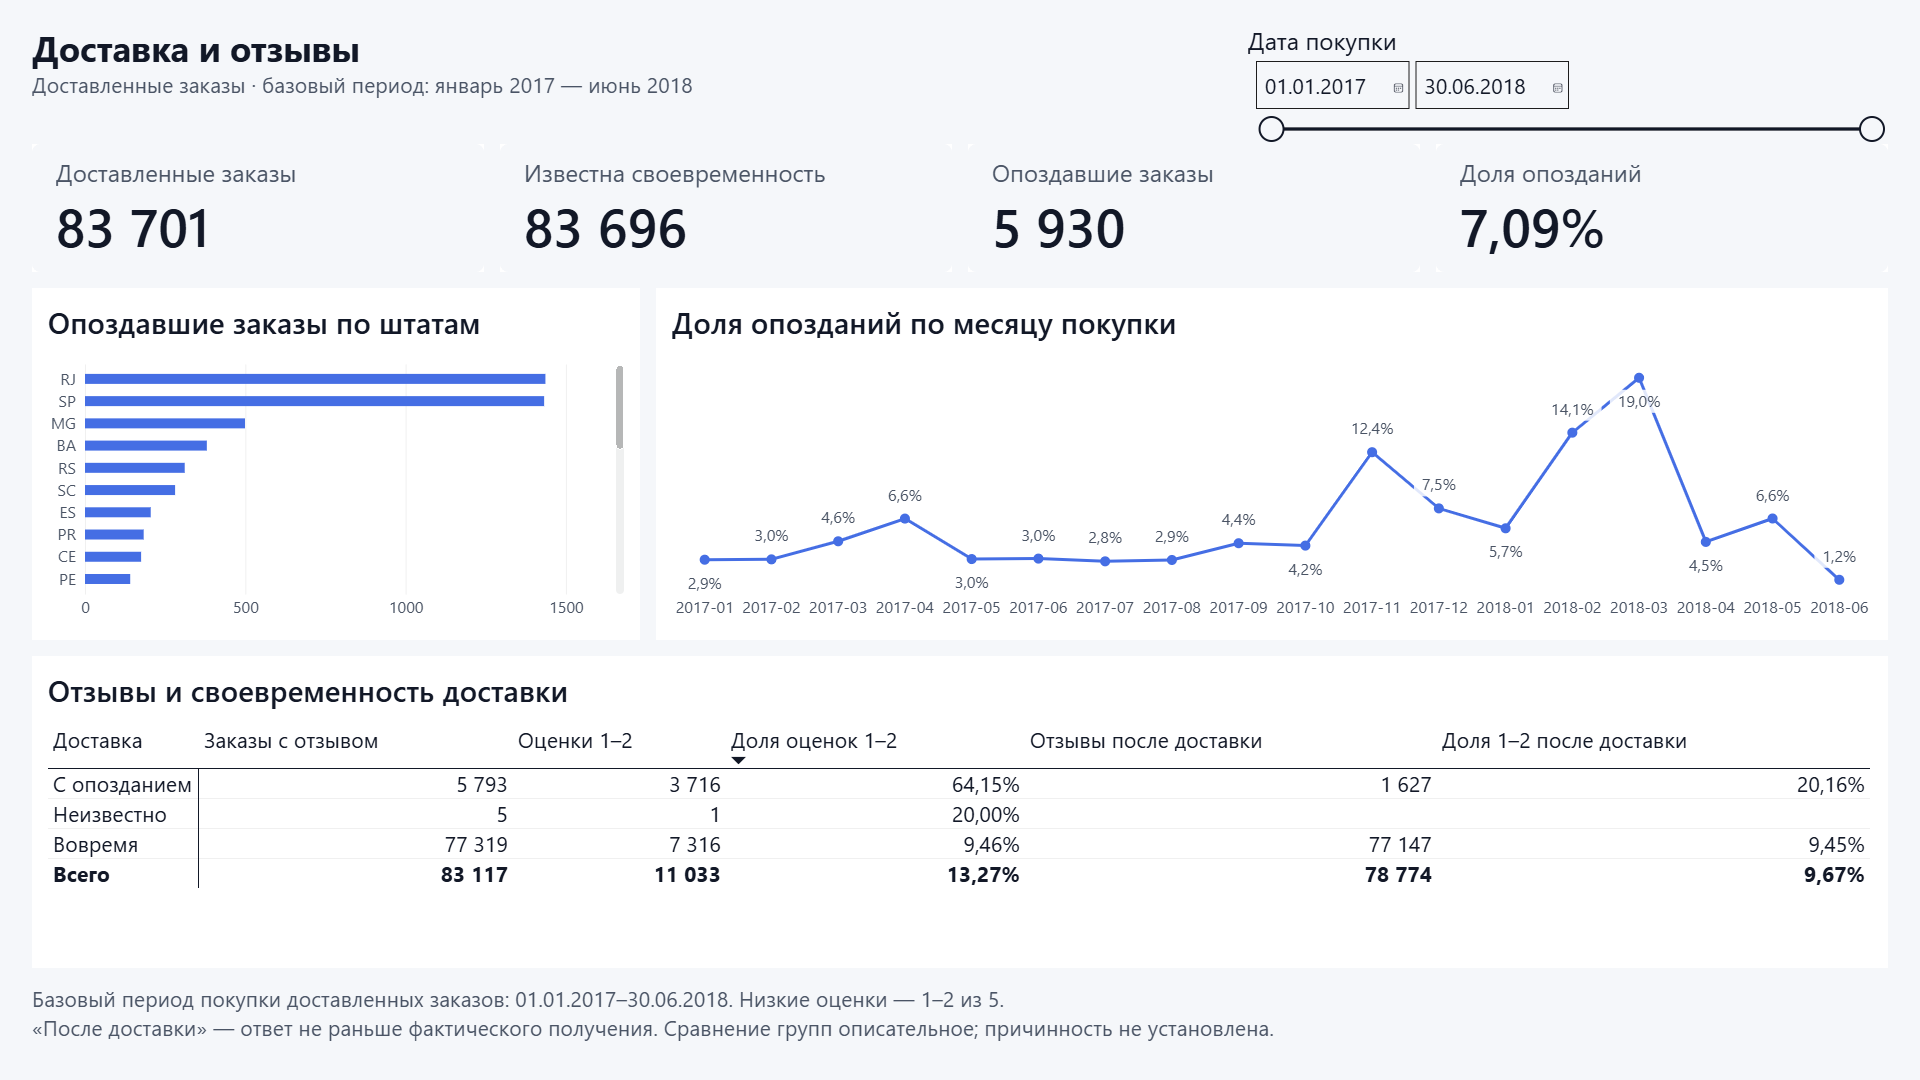

The page's visual inventory and layout, read from the dashboard file:
{"tool":"powerbi","page":{"name":"Доставка и отзывы","canvas":[1920,1080],"ordinal":2},"visuals":[{"type":"textbox","box":[32,24,1136,104],"z":0},{"type":"slicer","title":"Дата покупки","fields":{"Values":["service_calendar.date"]},"box":[1248,24,640,120],"z":1},{"type":"cardVisual","fields":{"Data":["service_orders.Доставленные заказы сервиса"]},"box":[32,144,452,128],"z":2},{"type":"cardVisual","title":"Известна своевременность","fields":{"Data":["service_orders.Заказы с известной своевременностью"]},"box":[500,144,452,128],"z":3},{"type":"cardVisual","fields":{"Data":["service_orders.Опоздавшие заказы"]},"box":[968,144,452,128],"z":4},{"type":"cardVisual","fields":{"Data":["service_orders.Доля опозданий"]},"box":[1436,144,452,128],"z":5},{"type":"clusteredBarChart","title":"Опоздавшие заказы по штатам","fields":{"Category":["service_orders.customer_state"],"Y":["service_orders.Опоздавшие заказы"]},"box":[32,288,608,352],"z":6},{"type":"lineChart","title":"Доля опозданий по месяцу покупки","fields":{"Category":["service_calendar.year_month"],"Y":["service_orders.Доля опозданий"]},"box":[656,288,1232,352],"z":7},{"type":"pivotTable","title":"Отзывы и своевременность доставки","fields":{"Rows":["service_orders.delivery_status"],"Values":["service_orders.Заказы с отзывом","service_orders.Низкие оценки","service_orders.Доля низких оценок","service_orders.Отзывы после доставки","service_orders.Доля низких оценок после доставки"]},"box":[32,656,1856,312],"z":8},{"type":"textbox","box":[32,984,1856,64],"z":9}]}

Visuals, with their boxes in screenshot pixels (x1, y1, x2, y2), scaled from the page's 1920x1080 canvas onto the 1920x1080 screenshot:
textbox: rect(32, 24, 1168, 128)
"Дата покупки" slicer: rect(1248, 24, 1888, 144)
cardVisual - service_orders.Доставленные заказы сервиса: rect(32, 144, 484, 272)
"Известна своевременность" cardVisual: rect(500, 144, 952, 272)
cardVisual - service_orders.Опоздавшие заказы: rect(968, 144, 1420, 272)
cardVisual - service_orders.Доля опозданий: rect(1436, 144, 1888, 272)
"Опоздавшие заказы по штатам" clusteredBarChart: rect(32, 288, 640, 640)
"Доля опозданий по месяцу покупки" lineChart: rect(656, 288, 1888, 640)
"Отзывы и своевременность доставки" pivotTable: rect(32, 656, 1888, 968)
textbox: rect(32, 984, 1888, 1048)
